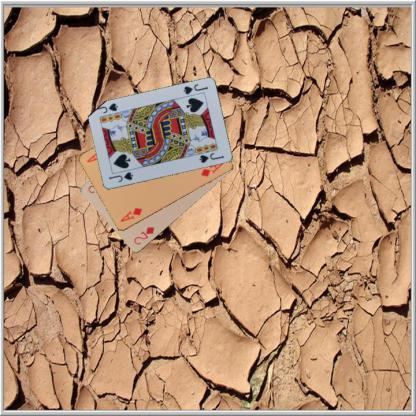2d: (131, 224, 156, 246)
Ad: (118, 206, 143, 224)
Js: (180, 81, 209, 96), (106, 169, 134, 184)
